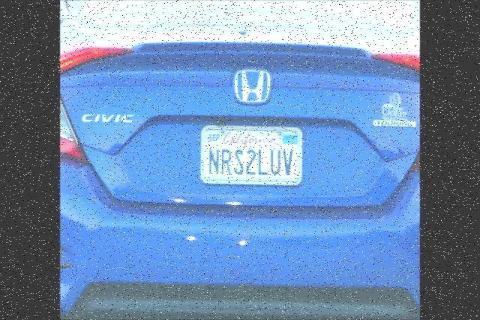LicensePlate: (200, 122, 304, 188)
